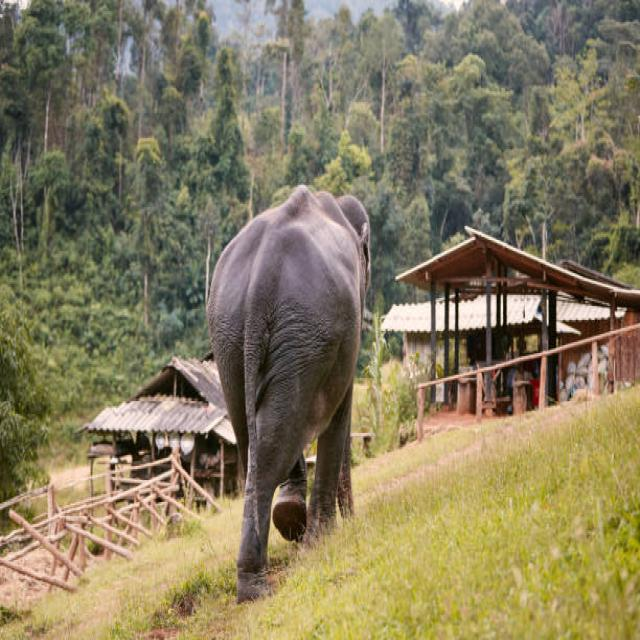Elephant: (205, 176, 383, 570)
